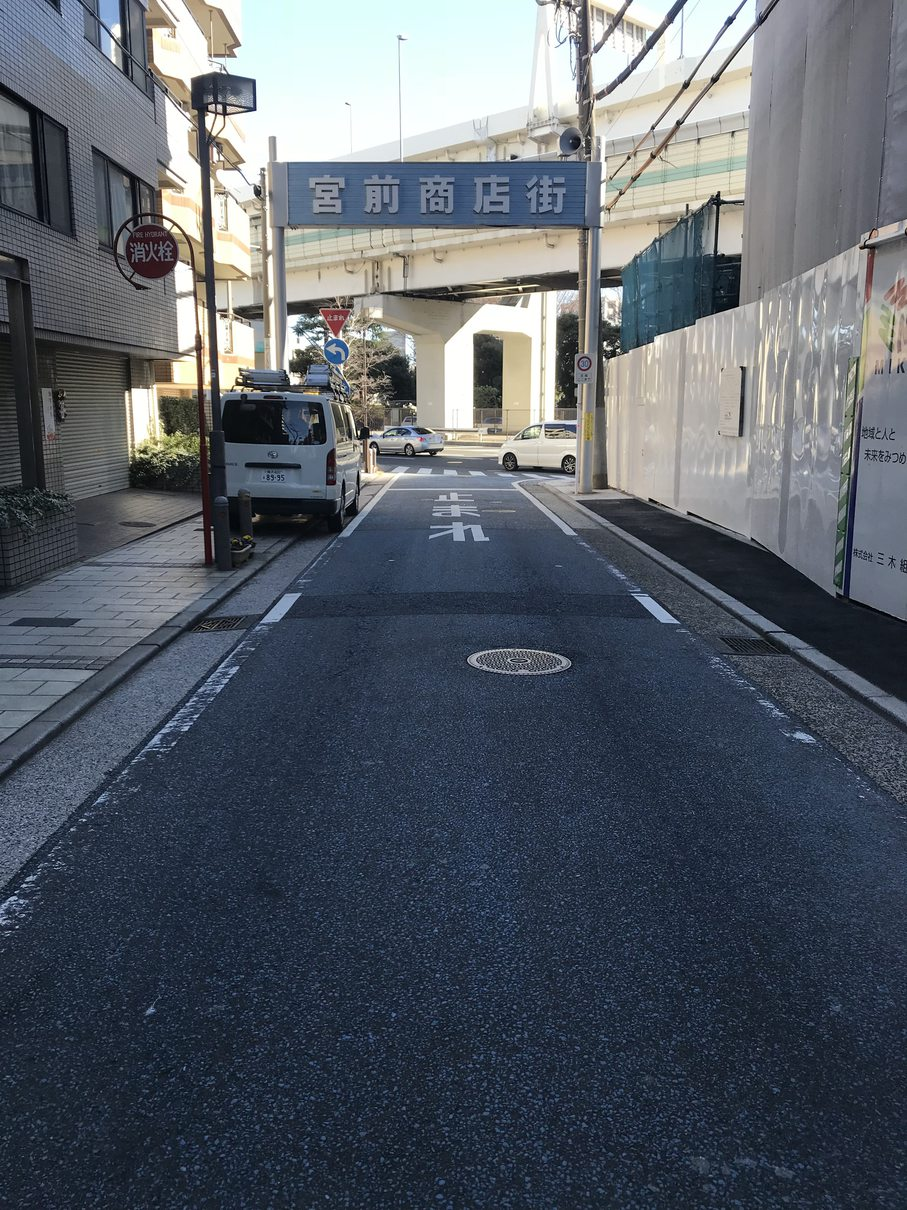stop_sign: (317, 306, 351, 338)
